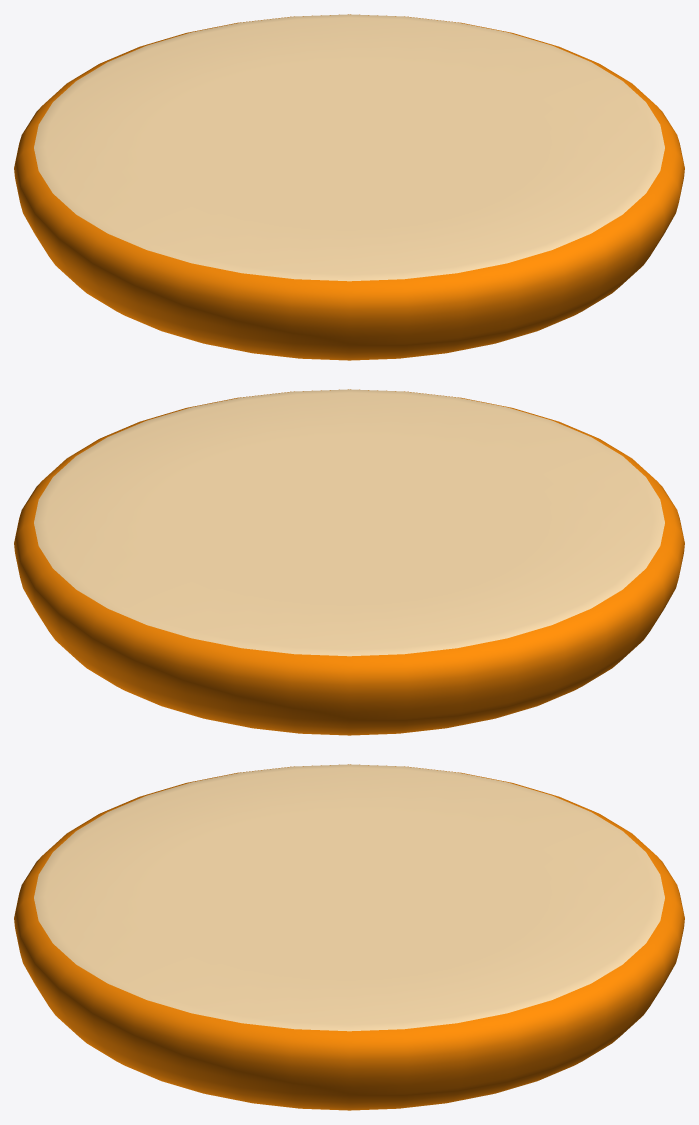
The model's file is burger_bottom.glb.
3 renders of one model, top to bottom at view 1: azimuth 30°, elevation 25°; view 2: azimuth 150°, elevation 25°; view 3: azimuth 270°, elevation 25°, orthographic.
Visible parts, largest first — view 1: Bottom_bun; view 2: Bottom_bun; view 3: Bottom_bun.
Boxes of the visible parts, box(x1,y1,x2,y2) form: Bottom_bun: box(14, 14, 684, 360); Bottom_bun: box(14, 389, 684, 735); Bottom_bun: box(14, 764, 684, 1110).
Bounding box in the file's own units: 0.241 × 0.0381 × 0.241.
